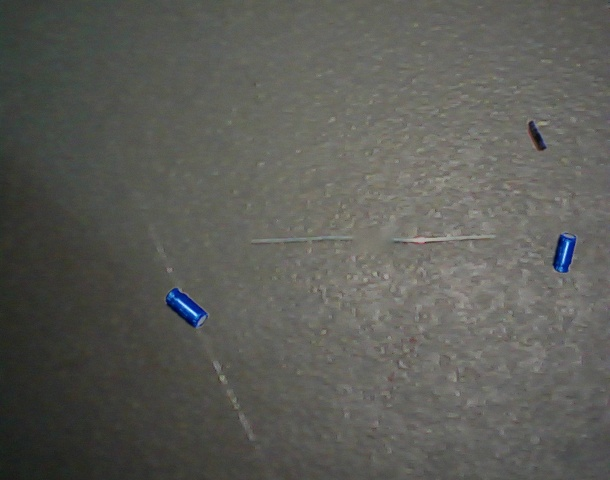capacitor: (165, 288, 209, 328), (553, 232, 577, 273), (527, 120, 547, 152)
